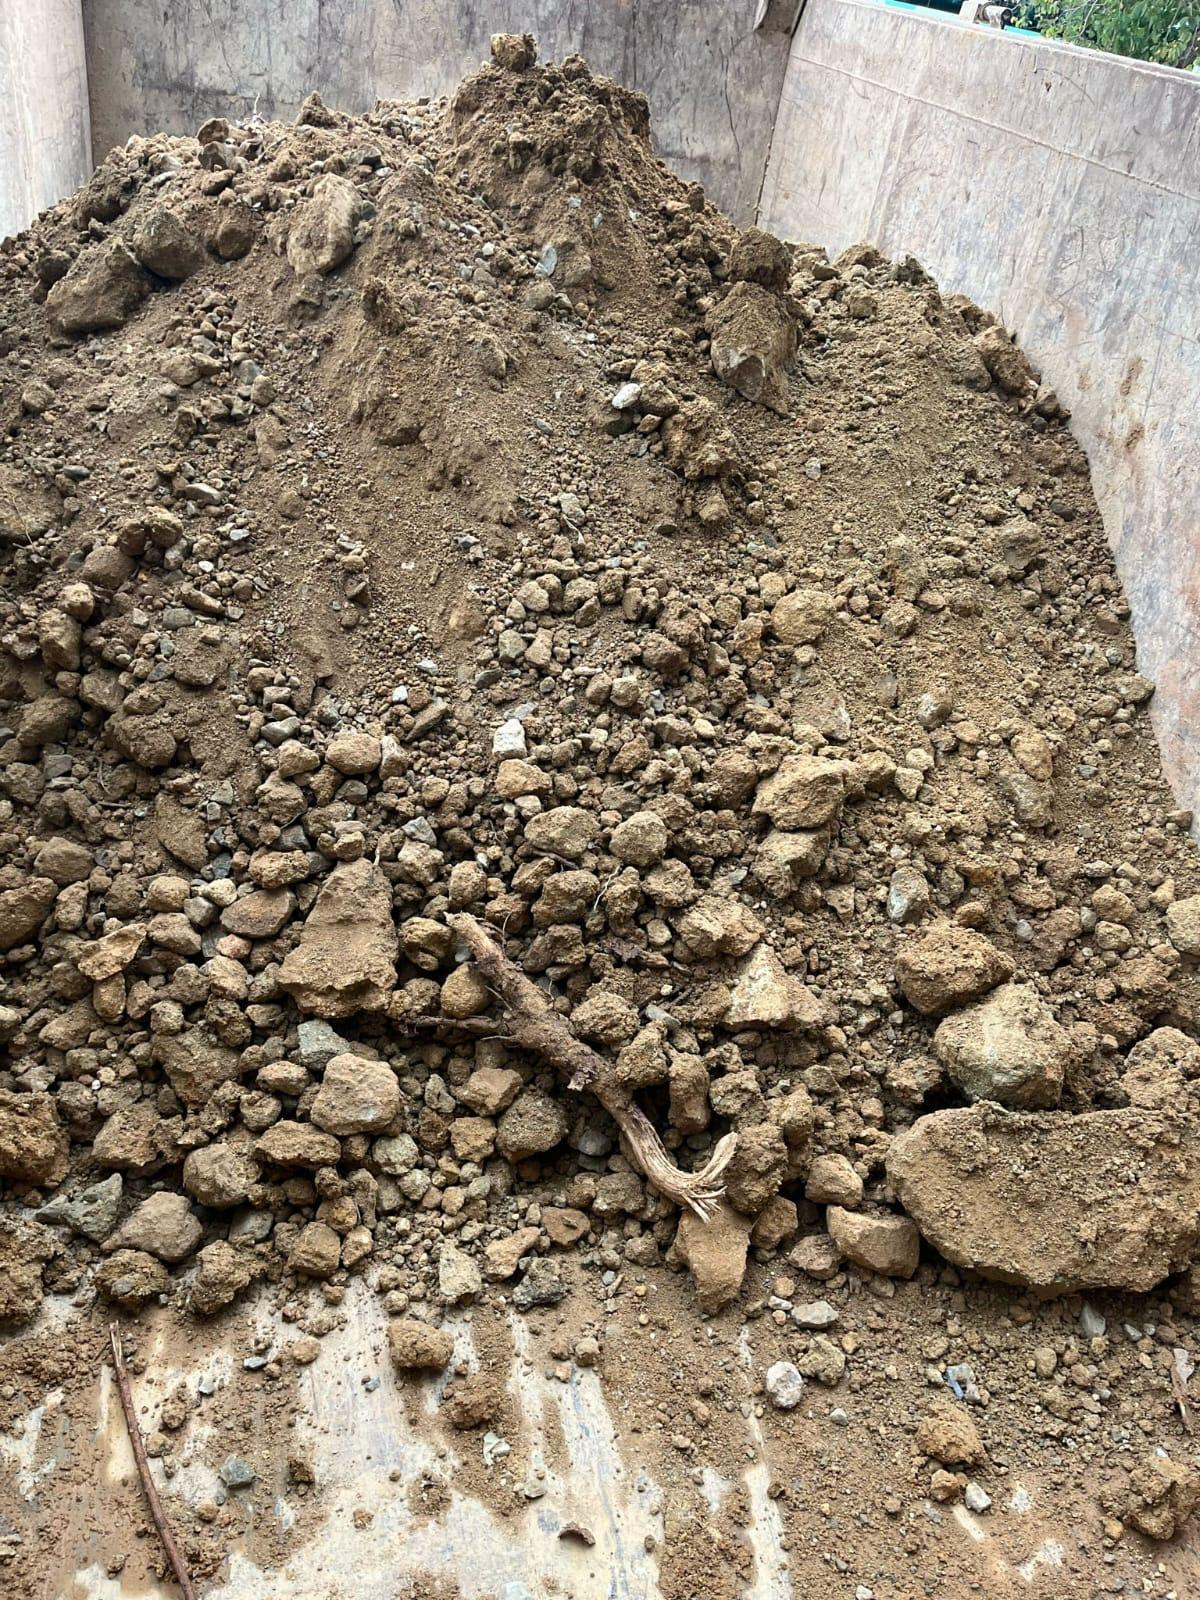wet: (3, 38, 1197, 1305)
